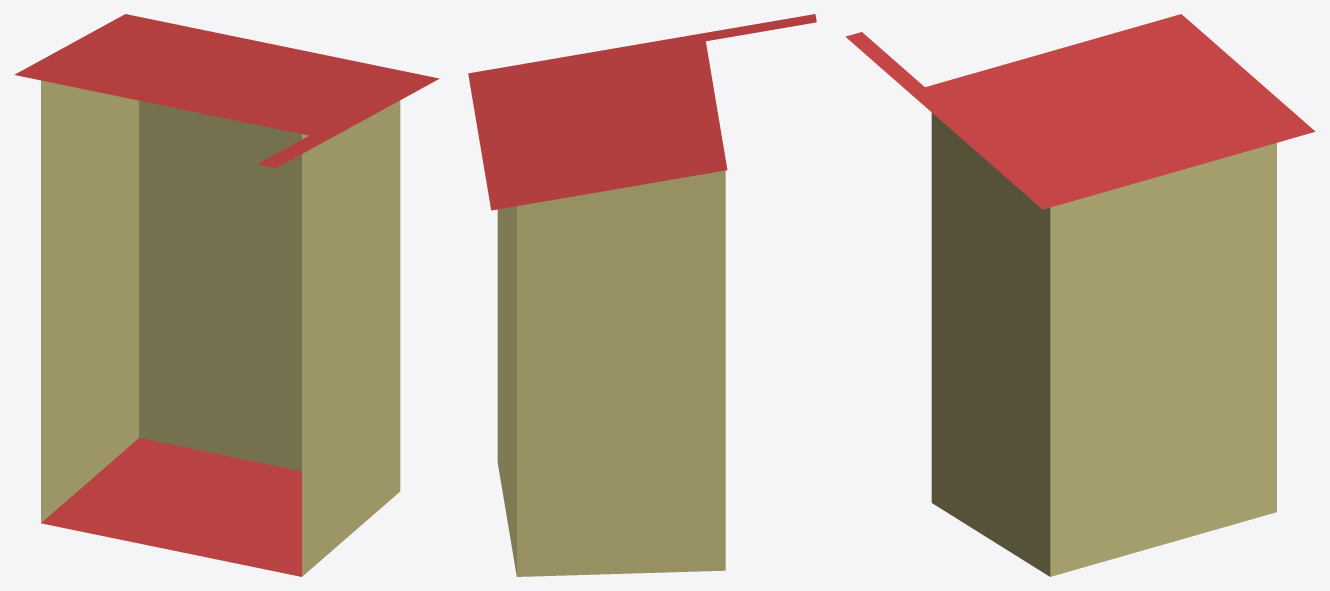
The picture shows the model from 3 angles, left to right: view 1: azimuth 30°, elevation 25°; view 2: azimuth 150°, elevation 25°; view 3: azimuth 270°, elevation 25°; orthographic projection. The views are drawn at different scales.
Bounding box in the file's own units: 6.85 × 8.41 × 8.54.
